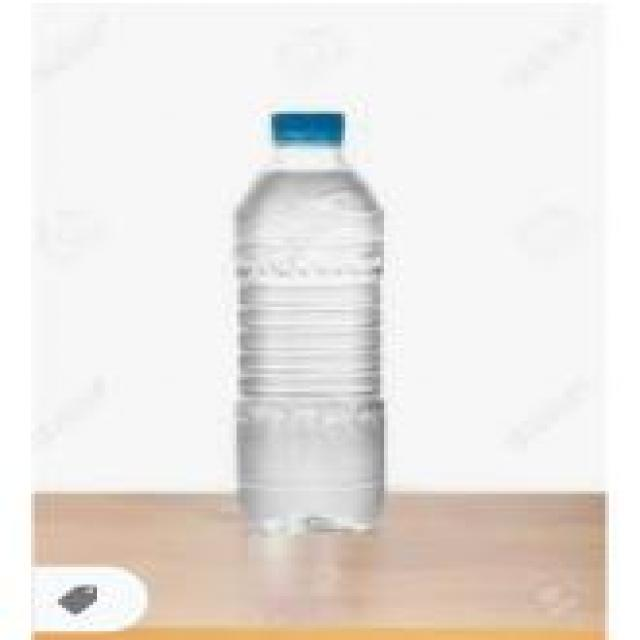bottle: (204, 92, 416, 578)
